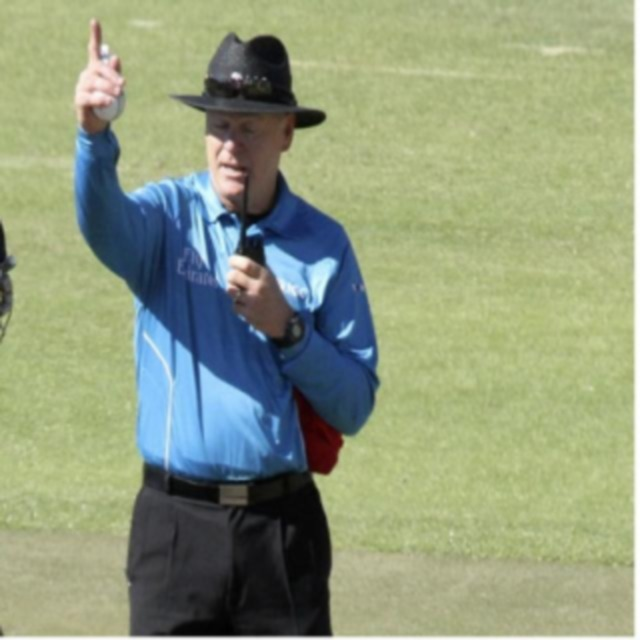Out: (60, 3, 383, 640)
